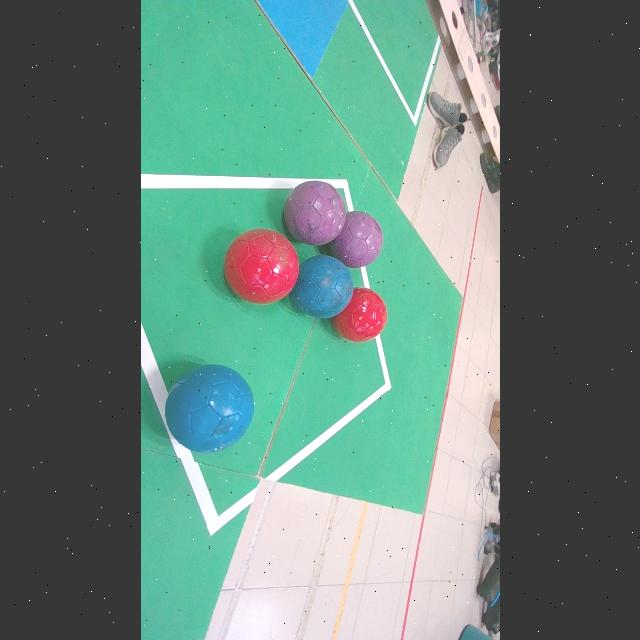B: (165, 364, 254, 453), (291, 255, 353, 318)
P: (283, 181, 346, 246), (328, 210, 384, 267)
R: (224, 228, 299, 304), (333, 288, 387, 341)
